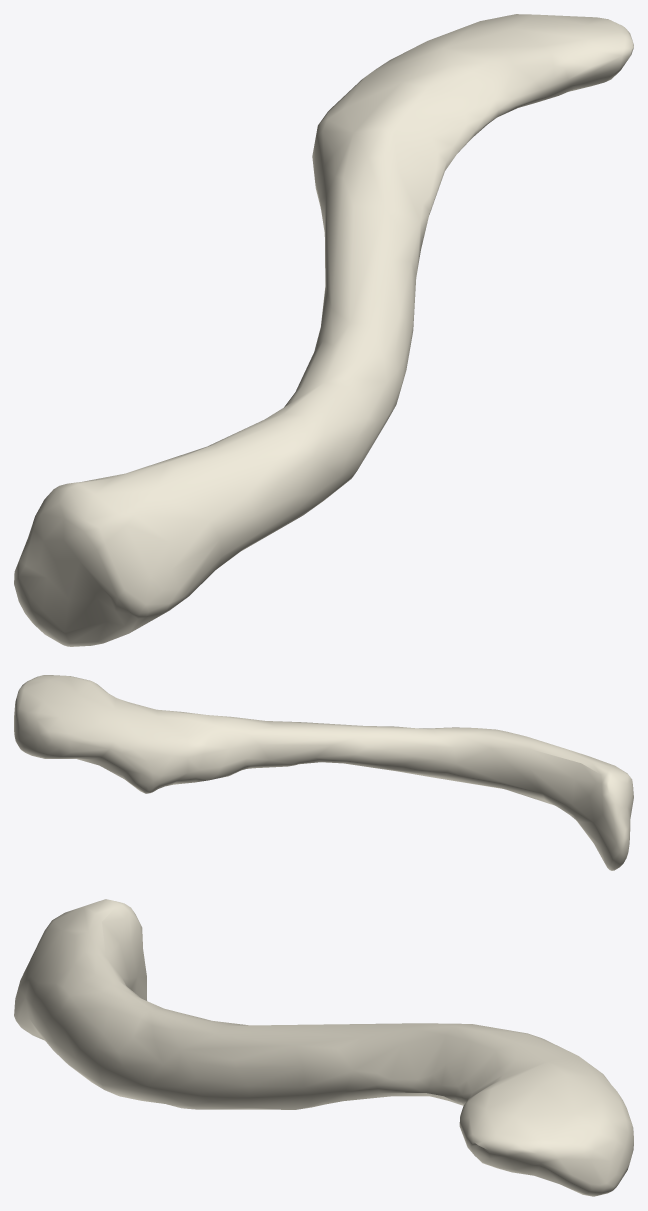
File: fma13323_fj6347.glb
3 renders of one model, top to bottom at view 1: azimuth 30°, elevation 25°; view 2: azimuth 150°, elevation 25°; view 3: azimuth 270°, elevation 25°, orthographic. The views are drawn at different scales.
Visible parts, largest first — view 1: FMA13323_FJ6347; view 2: FMA13323_FJ6347; view 3: FMA13323_FJ6347.
Boxes of the visible parts, left/top/right/bottom form: FMA13323_FJ6347: left=14, top=14, right=633, bottom=646; FMA13323_FJ6347: left=14, top=675, right=633, bottom=870; FMA13323_FJ6347: left=14, top=899, right=633, bottom=1196.
Bounding box in the file's own units: 0.1356 × 0.0467 × 0.0927.
